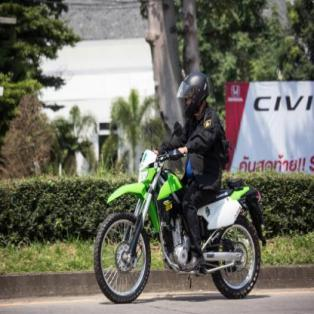Motocicleta: (90, 146, 262, 305)
